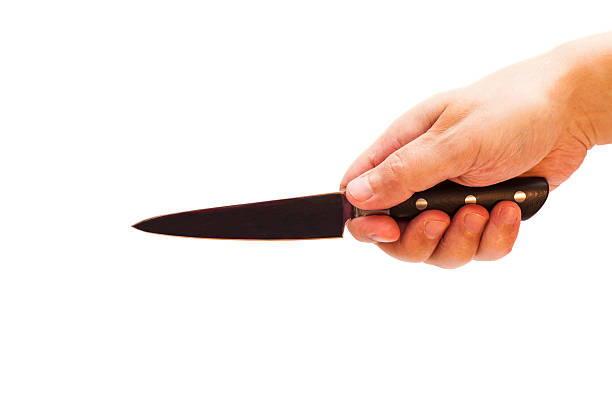knife: (129, 174, 550, 242)
